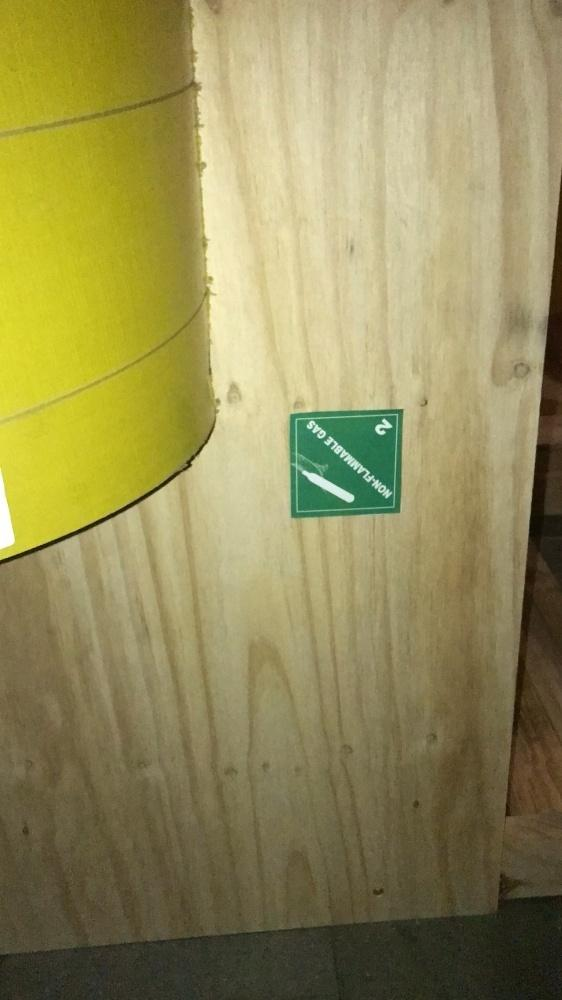non-flammable-gas: (286, 407, 404, 520)
